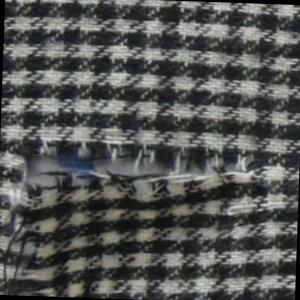Damage: (1, 127, 288, 300)
